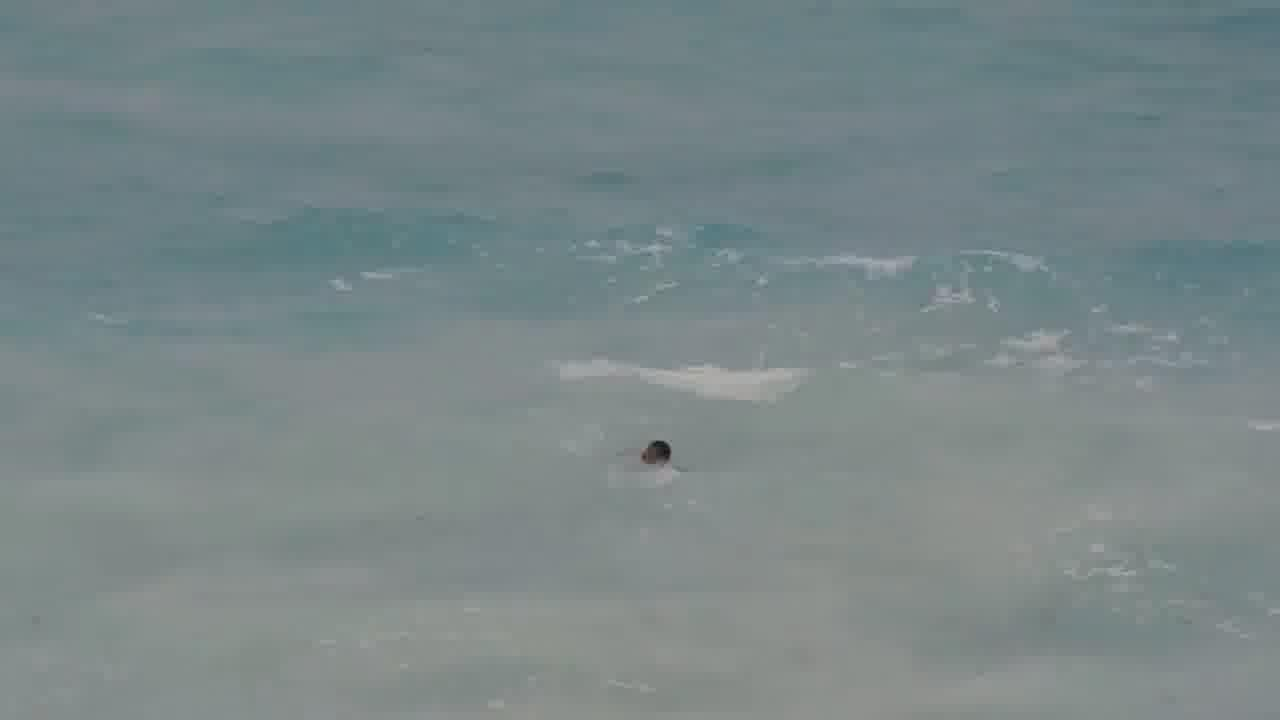human: (643, 430, 673, 480)
